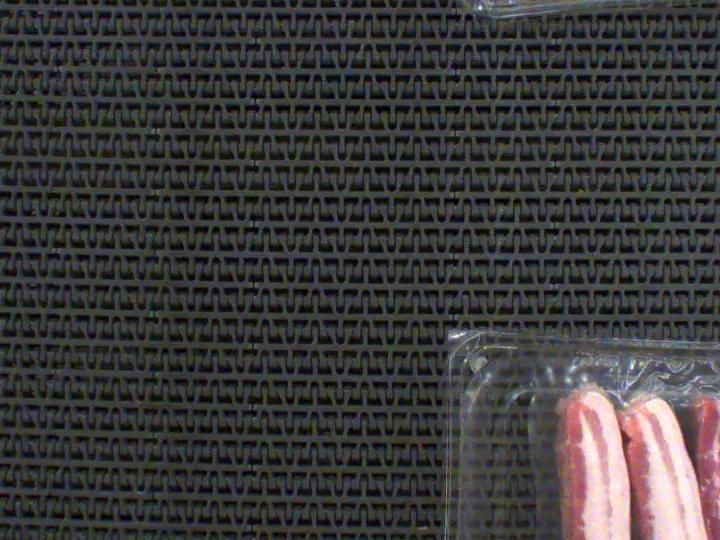unsealed: (528, 355, 720, 540)
